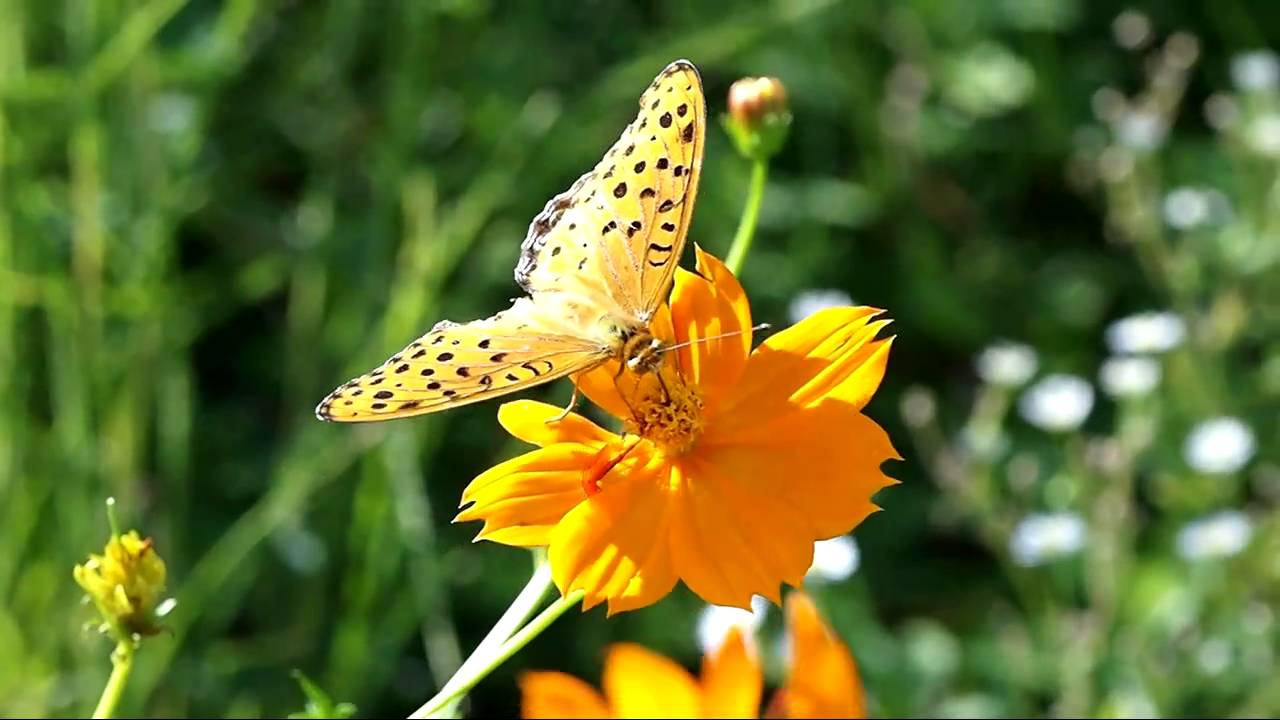Argyreus hyperbius: (319, 58, 776, 447)
butterfly: (321, 60, 778, 449)
